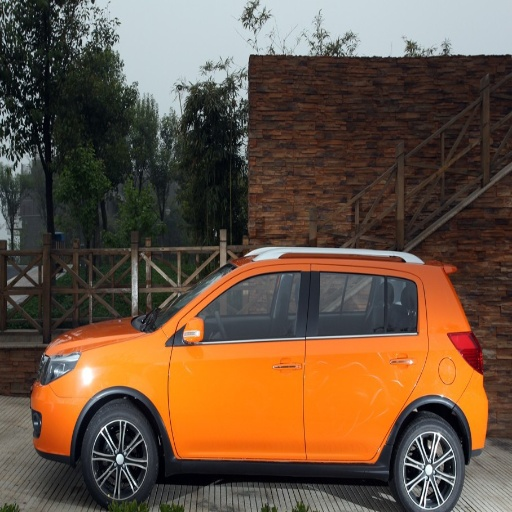back_left_door: (303, 264, 425, 460)
front_left_door: (169, 264, 310, 456)
